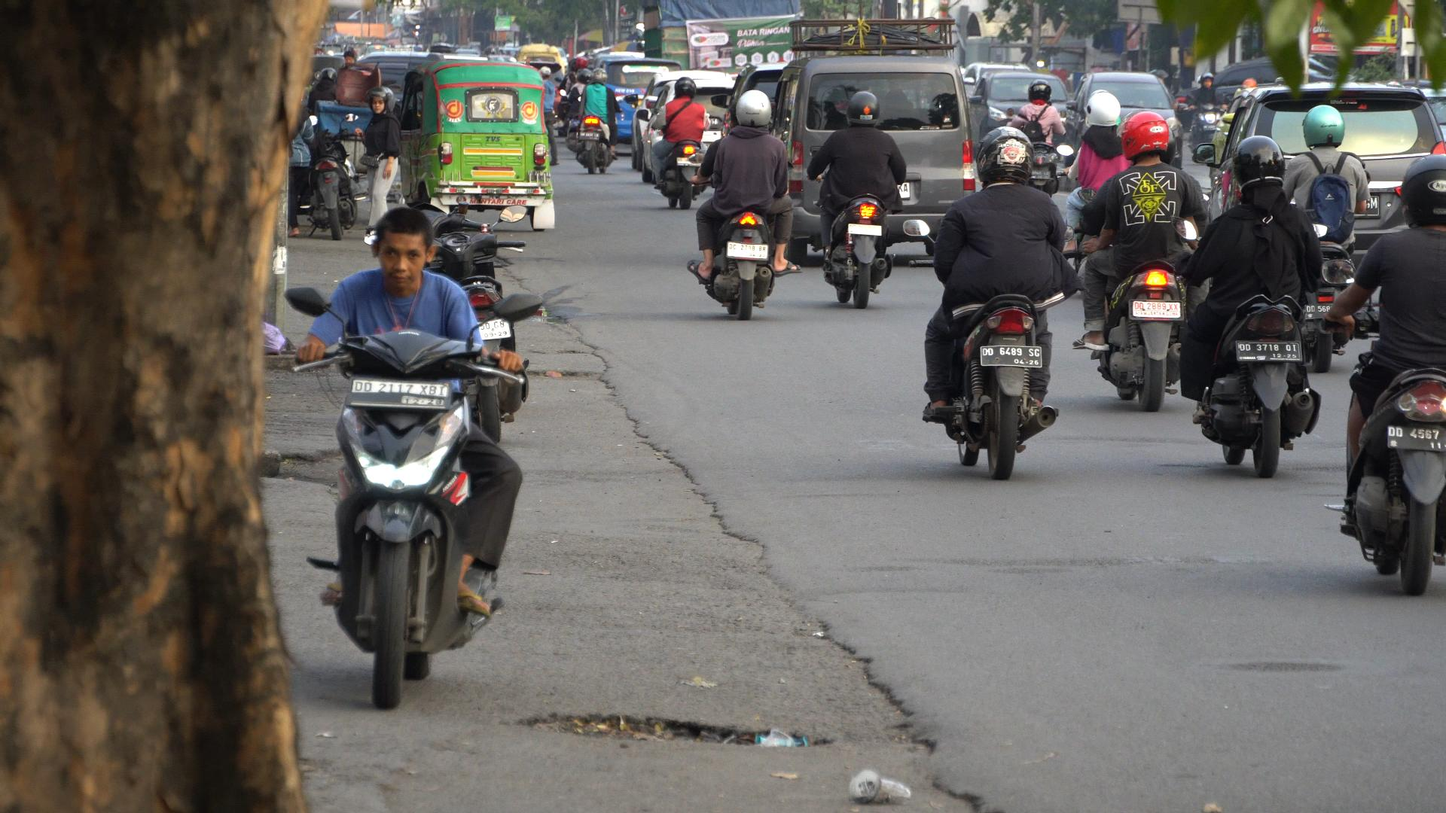number-plate: (346, 373, 452, 417)
